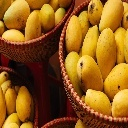mango: (76, 53, 104, 99), (96, 28, 116, 83), (3, 1, 31, 31), (84, 89, 112, 119), (99, 0, 124, 32), (16, 85, 32, 124), (38, 3, 56, 35), (4, 86, 18, 117), (0, 86, 6, 128)
